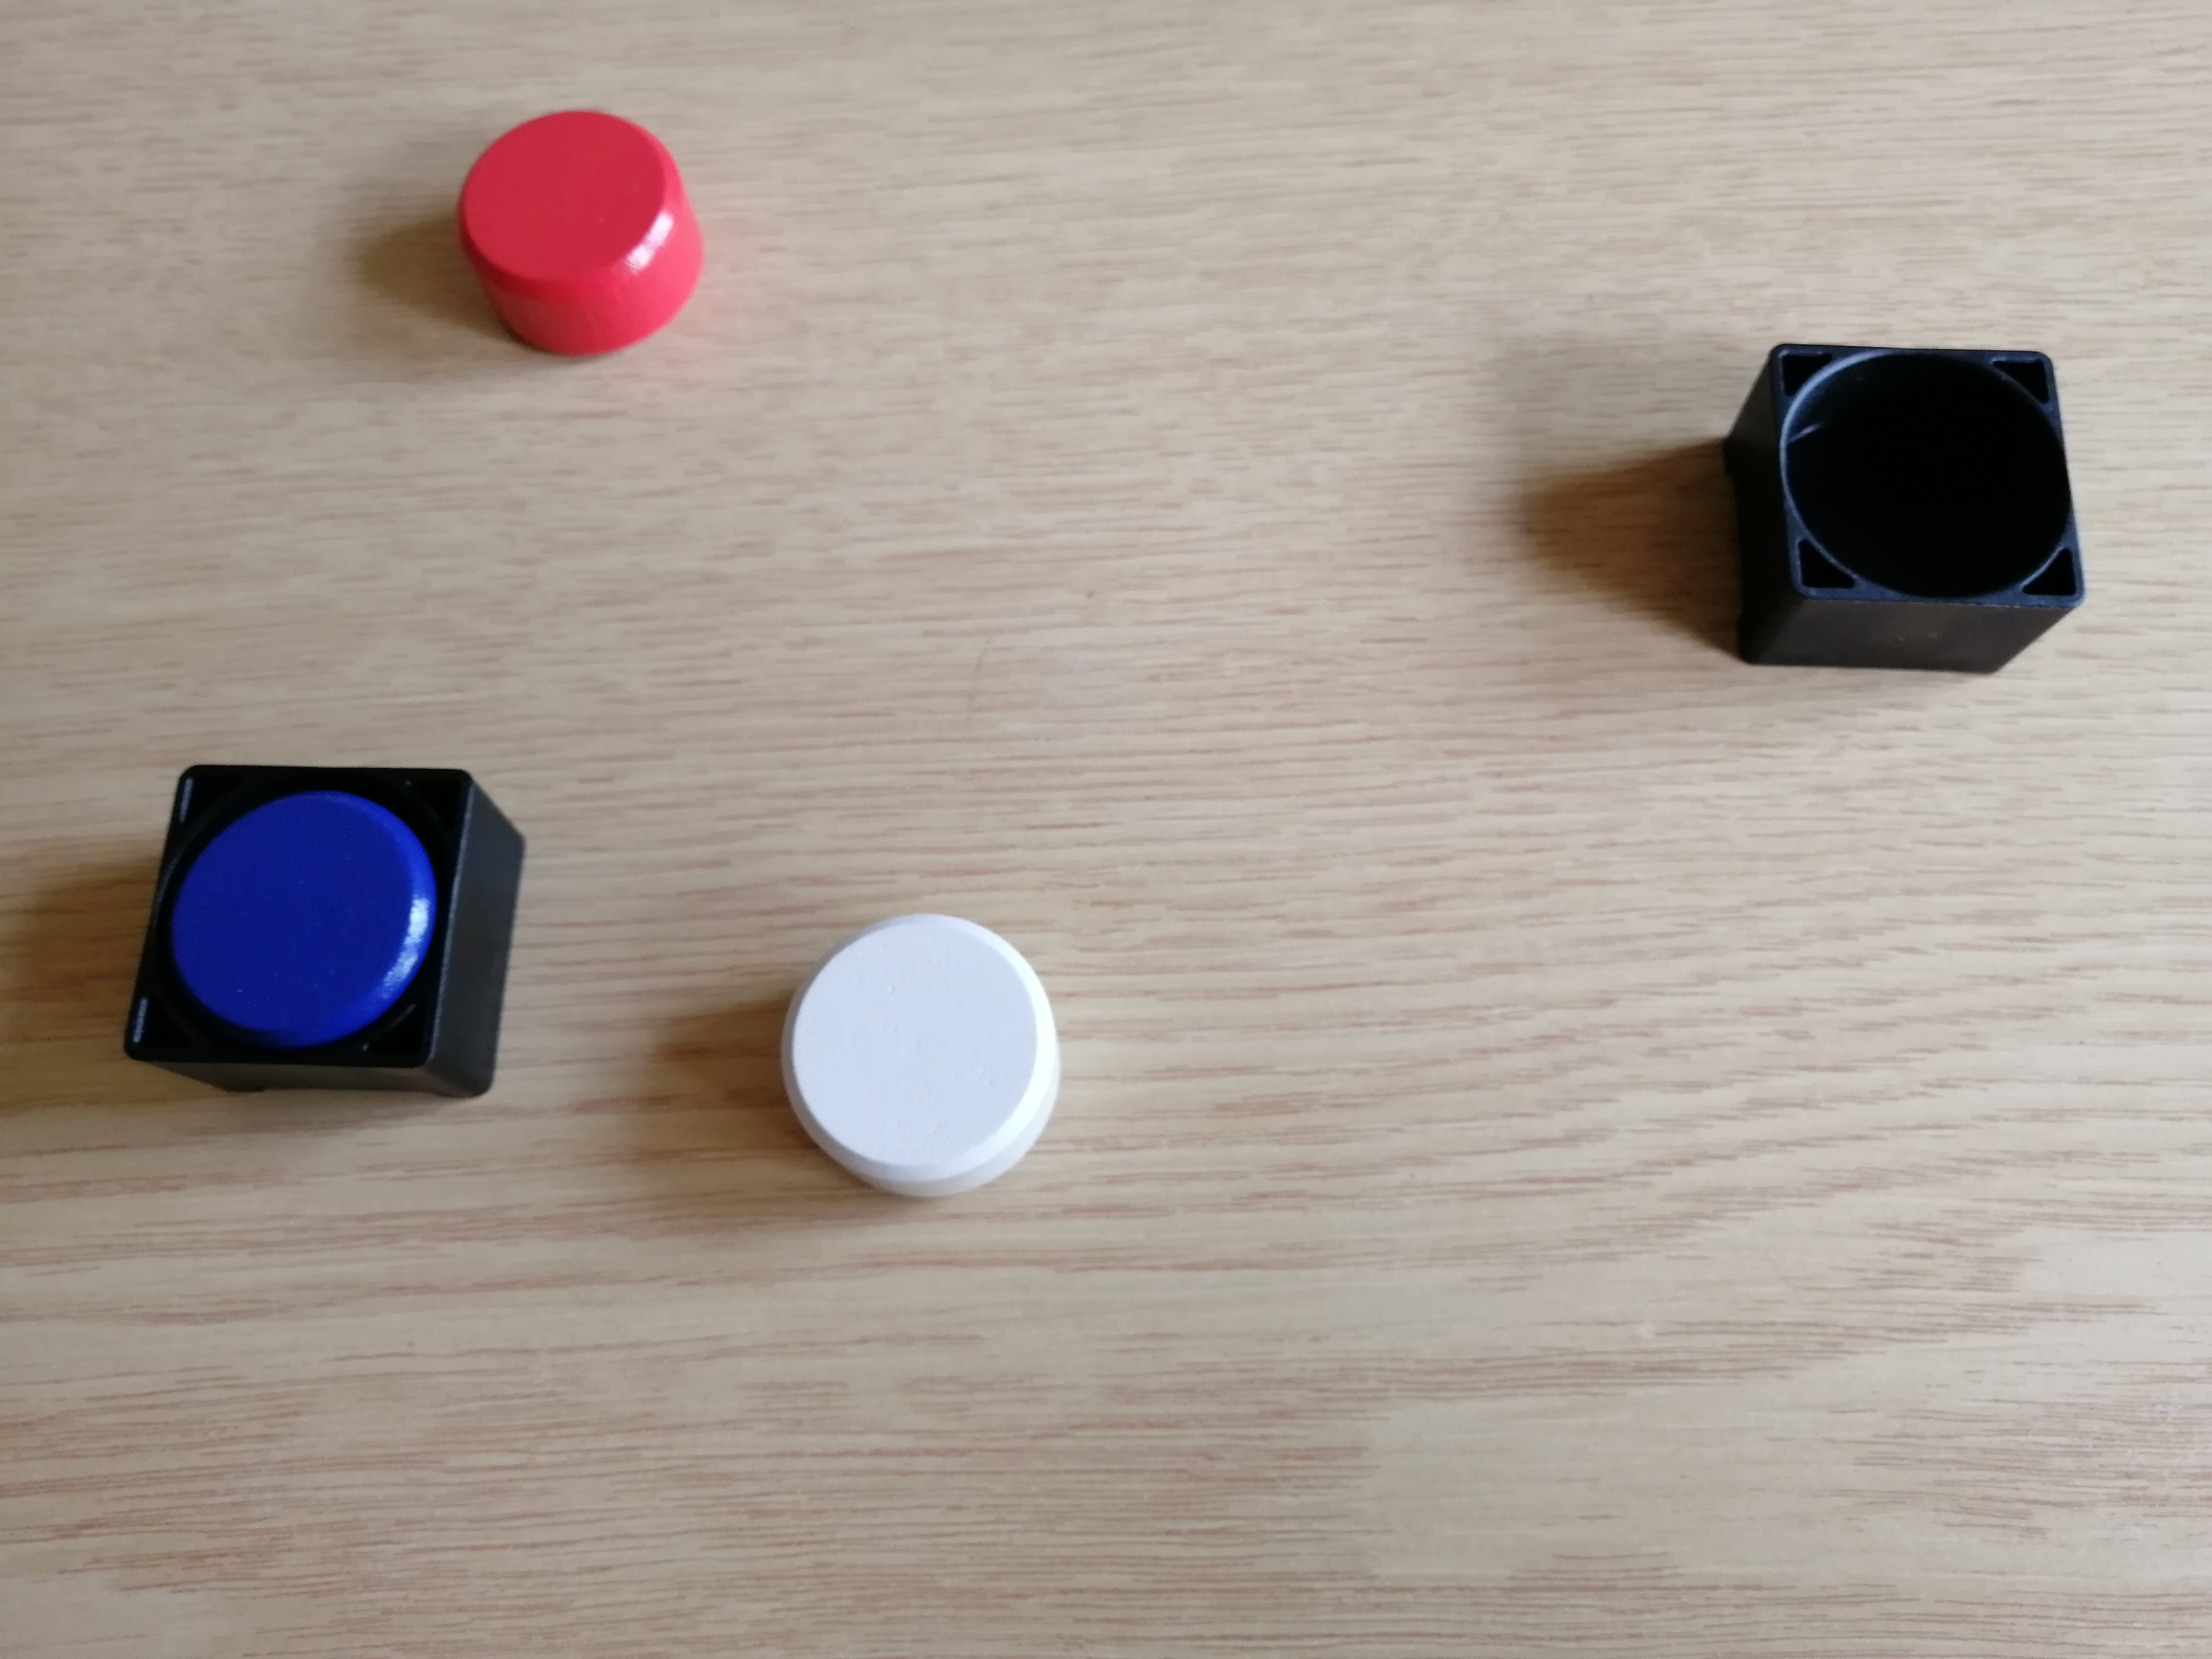Behaelter: (125, 772, 526, 1101), (1712, 343, 2078, 687)
WerkStueck: (772, 917, 1064, 1185), (465, 108, 704, 355), (176, 800, 425, 1035)
